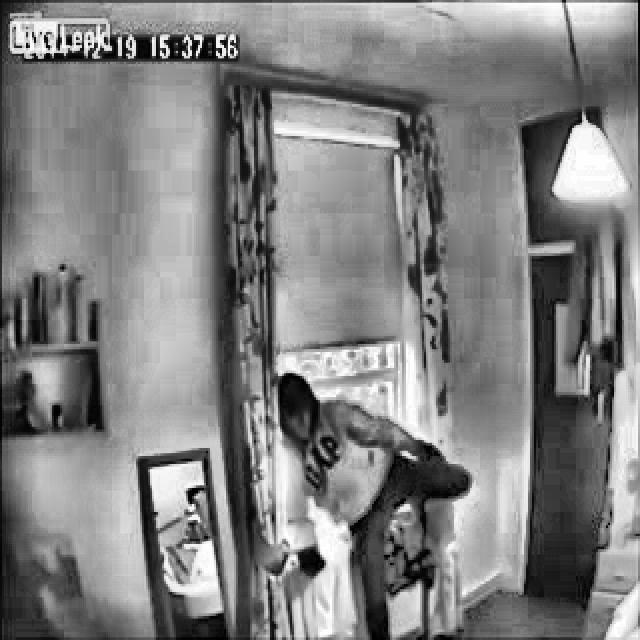burglary: (268, 334, 480, 640)
